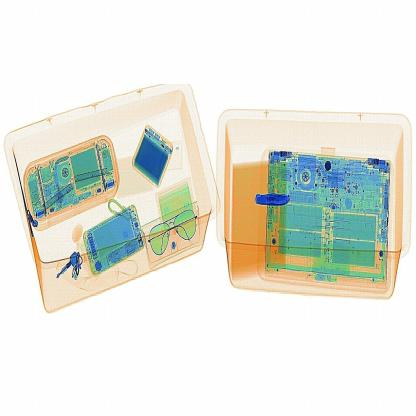knife: (252, 189, 296, 213)
